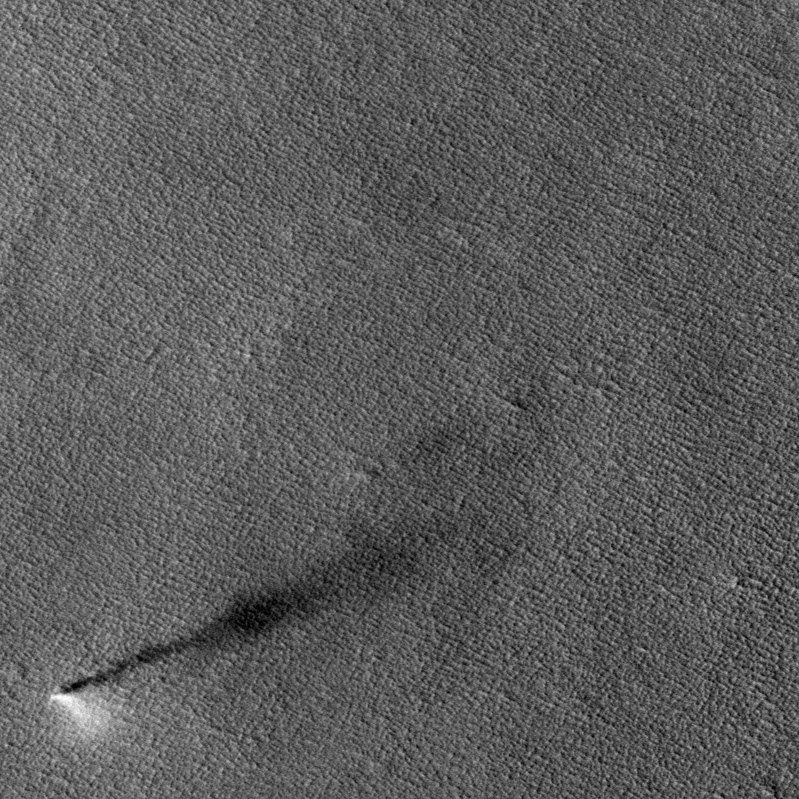dust_devil: (45, 514, 458, 744)
